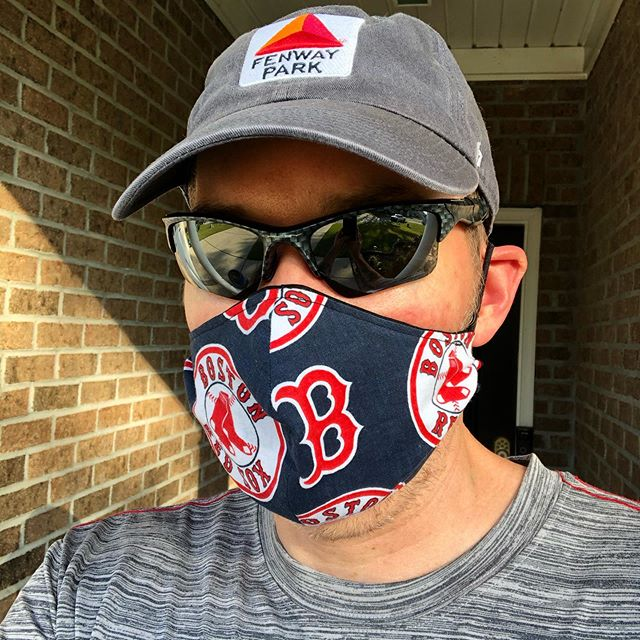homemade: (164, 297, 486, 530)
